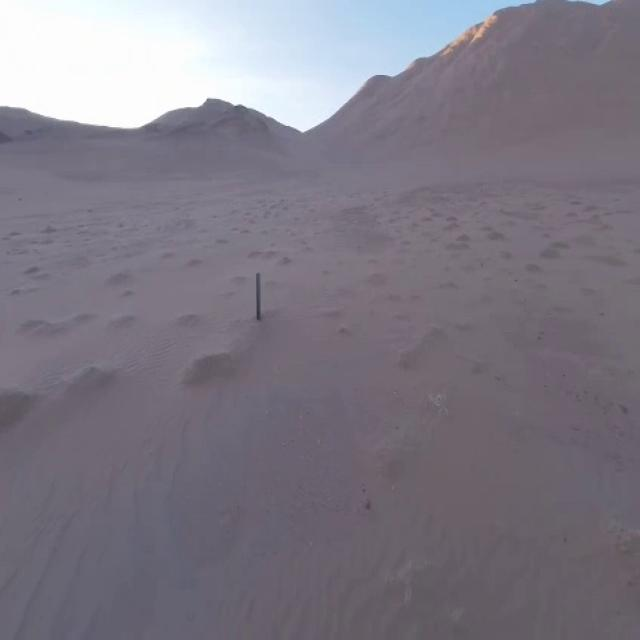Tire: (256, 273, 261, 320)
